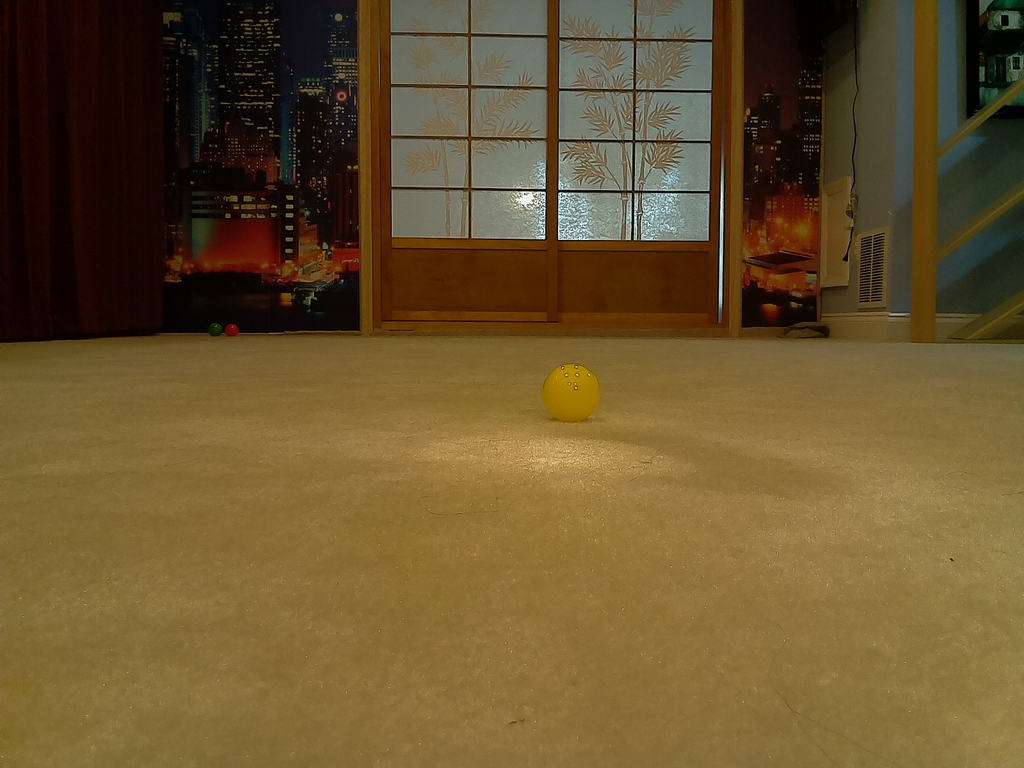ball: (542, 365, 598, 424)
